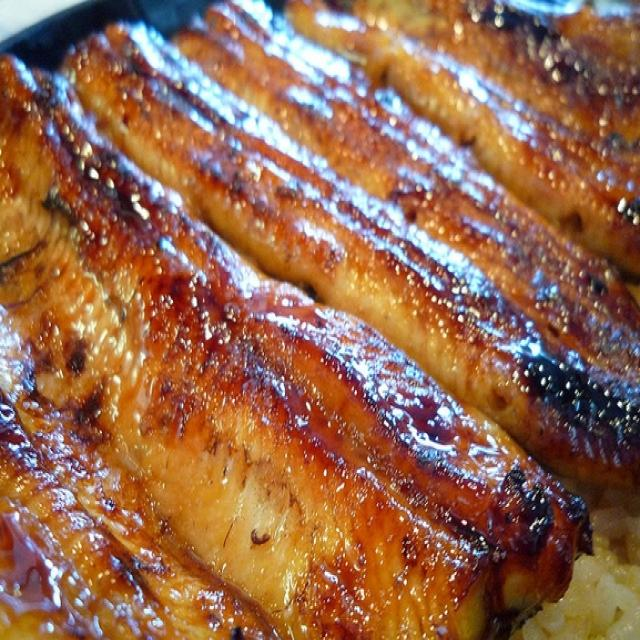熟制海鲜: (1, 8, 633, 631)
